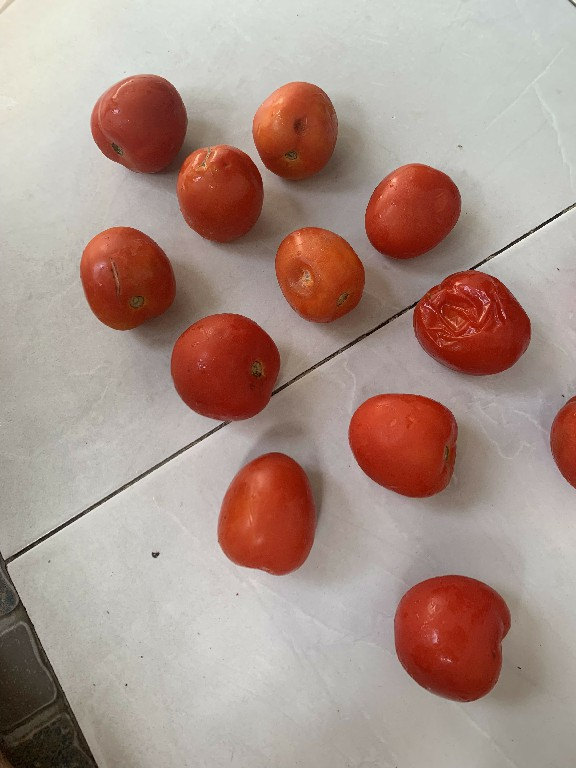NG: (408, 263, 531, 385), (77, 218, 177, 330), (264, 221, 365, 321), (170, 139, 265, 245), (250, 79, 341, 180)
OK: (382, 570, 511, 707), (209, 445, 324, 584), (162, 310, 289, 430), (337, 385, 464, 501), (79, 63, 195, 177), (356, 152, 460, 265)
